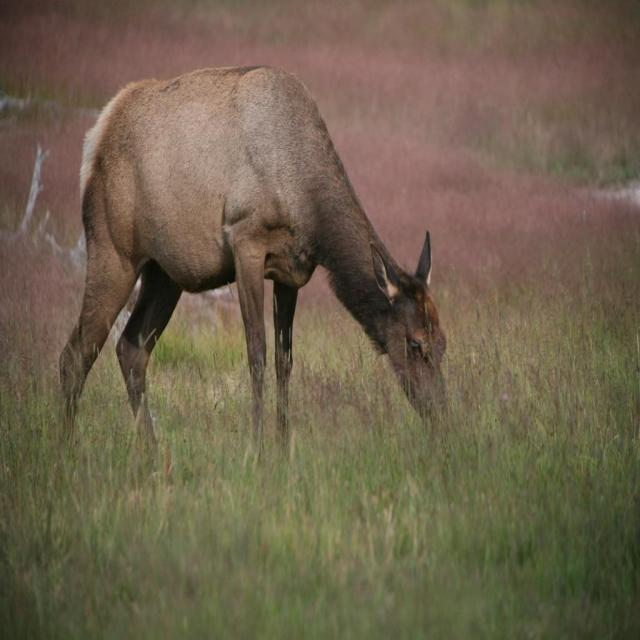Deer: (58, 66, 450, 471)
